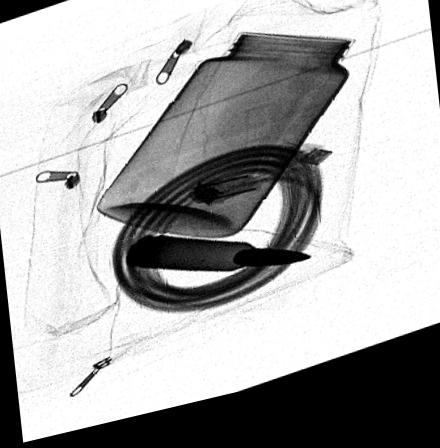Bullet: (122, 239, 313, 284)
